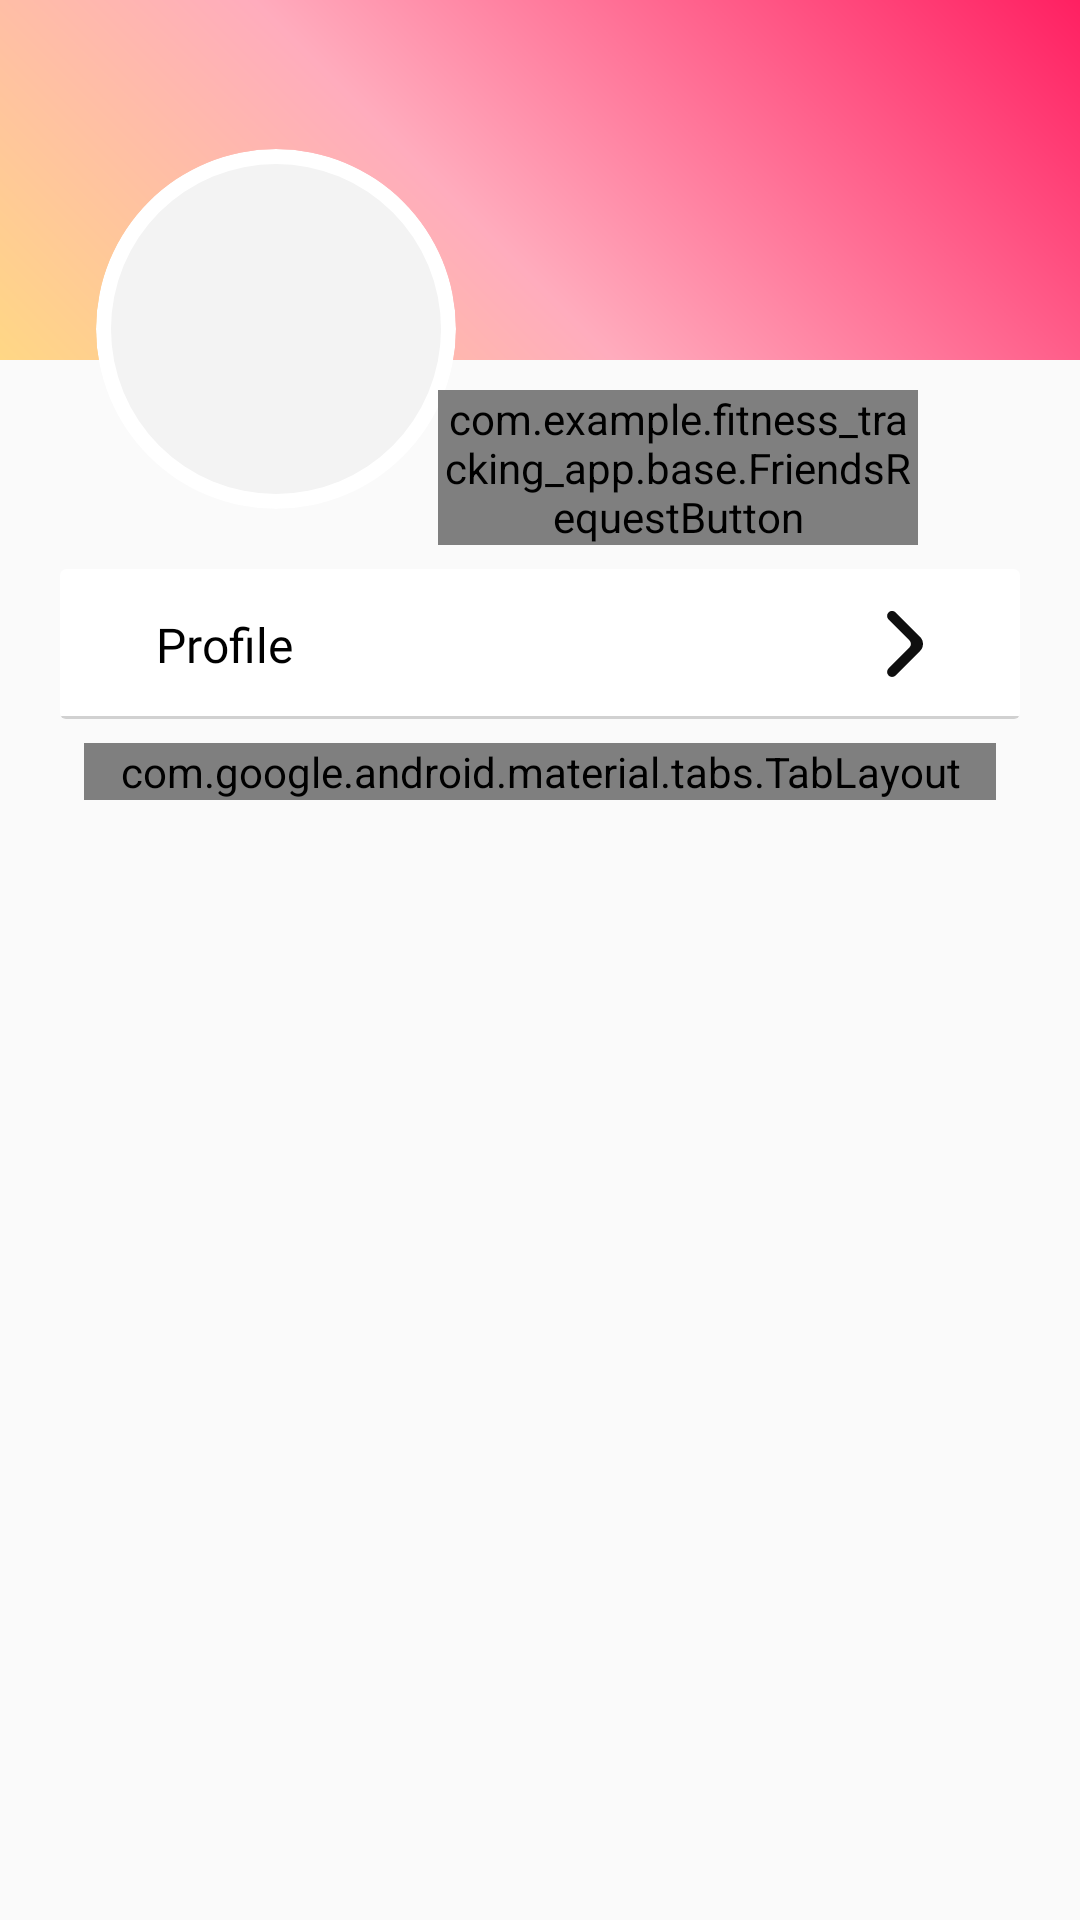

Where icons sit on this 1080px x 1920px app screen, as {"left": x1, "top": y1, "right": x2, "bottom": y2}:
arrow: {"left": 887, "top": 611, "right": 923, "bottom": 677}
